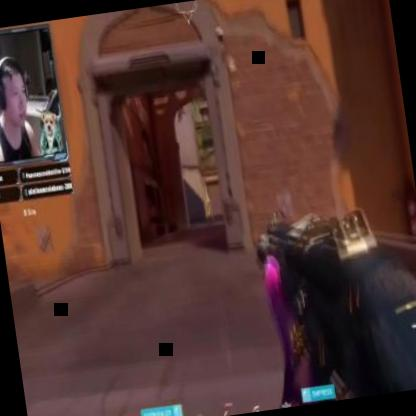enemy: (202, 191, 214, 221)
enemy_head: (205, 192, 209, 198)
